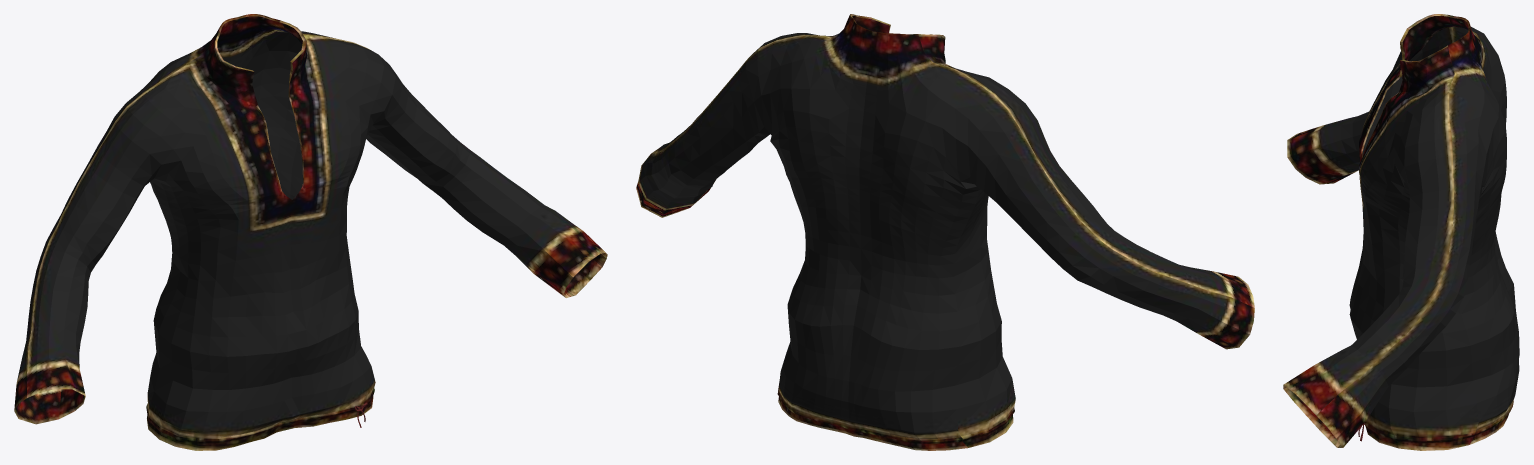
The model's file is mhw_elvs_male_boho_top1.glb.
3 renders of one model, left to right at view 1: azimuth 30°, elevation 25°; view 2: azimuth 150°, elevation 25°; view 3: azimuth 270°, elevation 25°, orthographic. The views are drawn at different scales.
Parts seen in each view (by area): view 1: mhw_elvs_male_boho_top1; view 2: mhw_elvs_male_boho_top1; view 3: mhw_elvs_male_boho_top1.
Boxes of the visible parts, x1,y1,x2,y2 form: mhw_elvs_male_boho_top1: (14, 14, 607, 450); mhw_elvs_male_boho_top1: (636, 14, 1254, 450); mhw_elvs_male_boho_top1: (1283, 14, 1519, 450).
Size of the model in its own units: 1.16 by 0.7296 by 0.4094.
1 material, 1 textured.
